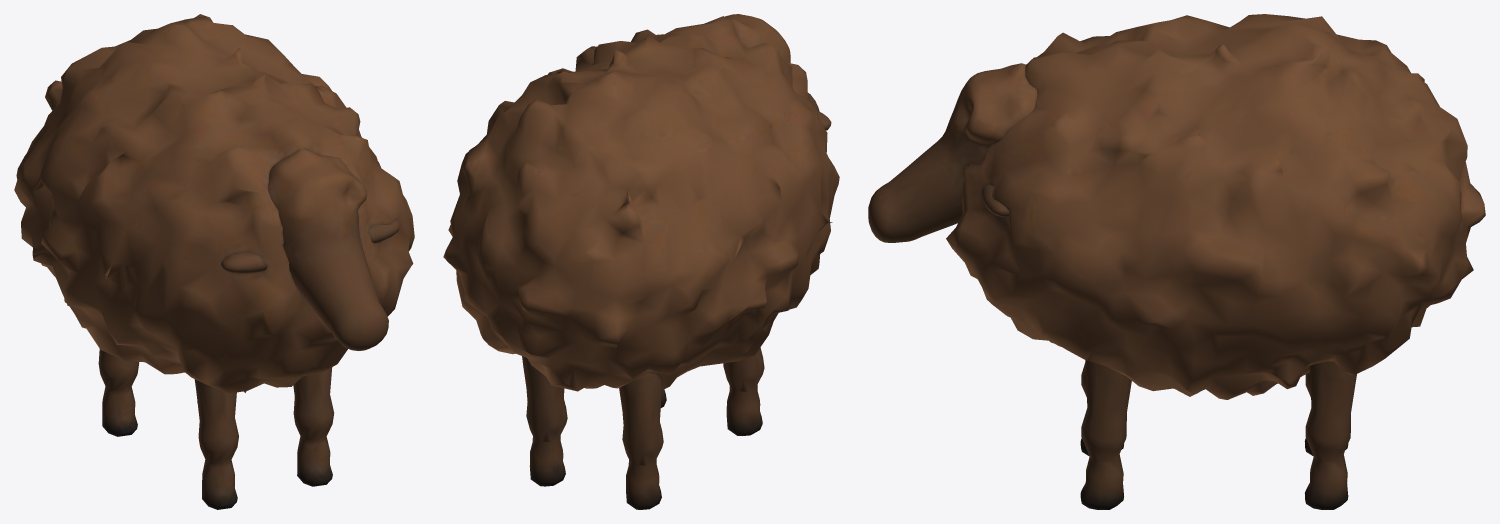
The model's file is animal_shetland_sheep.glb.
The picture shows the model from 3 angles, left to right: view 1: azimuth 30°, elevation 25°; view 2: azimuth 150°, elevation 25°; view 3: azimuth 270°, elevation 25°; orthographic projection. The views are drawn at different scales.
Visible parts, largest first — view 1: animal_shetland_sheep, head, leg0, leg1, leg2; view 2: animal_shetland_sheep, leg2, leg3, leg0, head; view 3: animal_shetland_sheep, head, leg3, leg1.
Part boxes in pixels (x1=…): animal_shetland_sheep: x1=14, y1=14, x2=414, y2=393; head: x1=221, y1=149, x2=400, y2=350; leg0: x1=194, y1=379, x2=238, y2=509; leg1: x1=293, y1=367, x2=334, y2=486; leg2: x1=98, y1=349, x2=139, y2=436; animal_shetland_sheep: x1=443, y1=16, x2=839, y2=391; leg2: x1=619, y1=373, x2=663, y2=509; leg3: x1=522, y1=356, x2=567, y2=486; leg0: x1=723, y1=347, x2=764, y2=435; head: x1=725, y1=14, x2=831, y2=130; animal_shetland_sheep: x1=946, y1=14, x2=1485, y2=399; head: x1=868, y1=63, x2=1037, y2=242; leg3: x1=1304, y1=361, x2=1356, y2=509; leg1: x1=1080, y1=360, x2=1131, y2=509.
Bounding box in the file's own units: 0.3617 × 0.4513 × 0.5511.
1 material, 1 textured.
